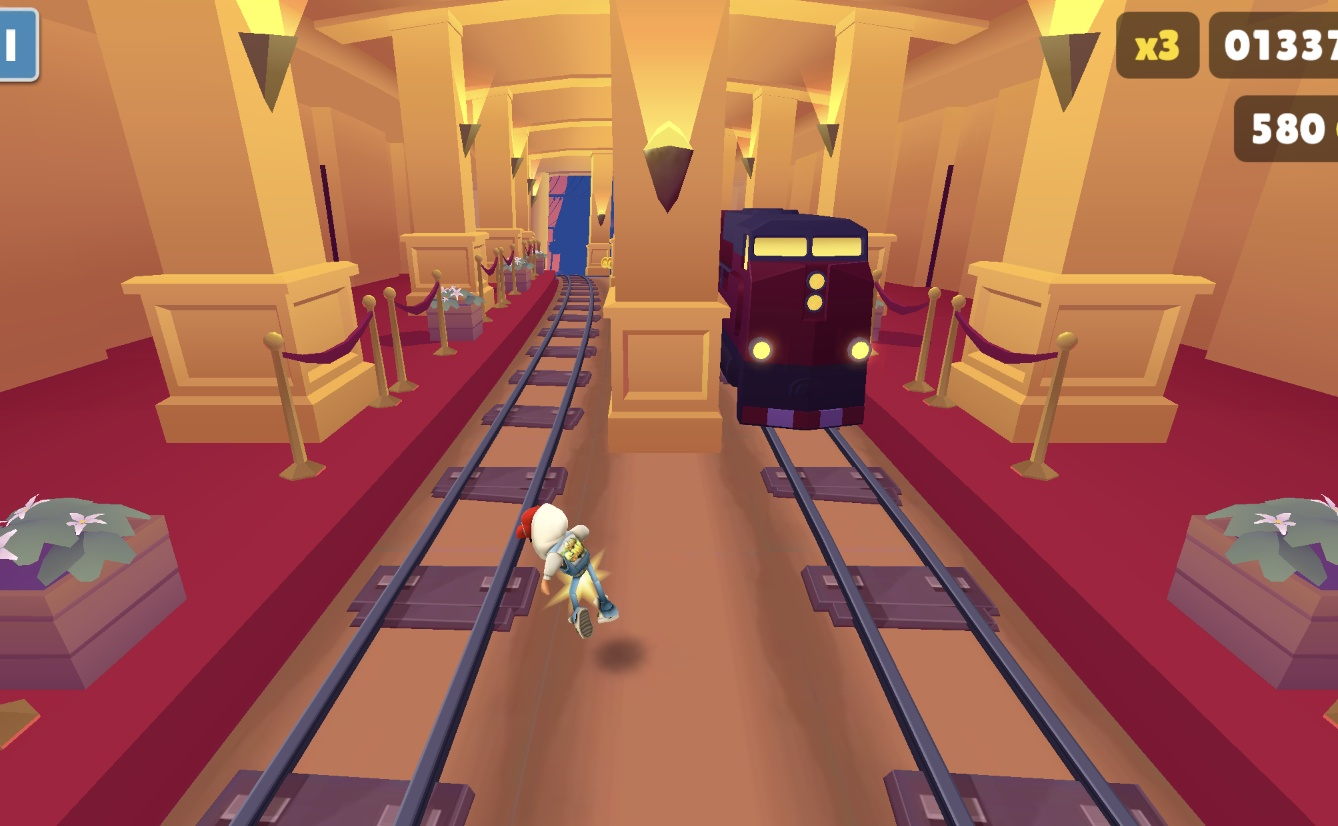pillar: (607, 0, 714, 457)
train: (716, 212, 871, 437)
